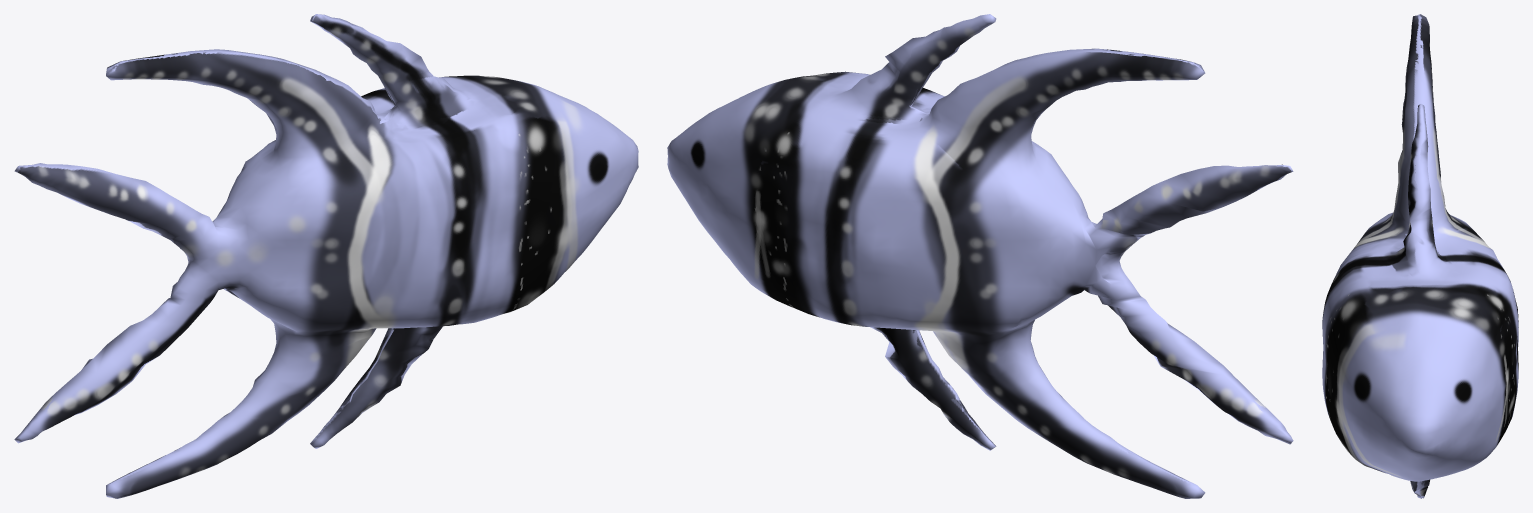
The model's file is PezCardenal.fbx.
The picture shows the model from 3 angles, left to right: view 1: azimuth 30°, elevation 25°; view 2: azimuth 150°, elevation 25°; view 3: azimuth 270°, elevation 25°; orthographic projection. The views are drawn at different scales.
Parts seen in each view (by area): view 1: Pez1.001; view 2: Pez1.001; view 3: Pez1.001.
Boxes of the visible parts, x1,y1,x2,y2 form: Pez1.001: (14,14,638,498); Pez1.001: (667,14,1293,498); Pez1.001: (1322,14,1518,498).
Bounding box in the file's own units: 742 × 496 × 224.
